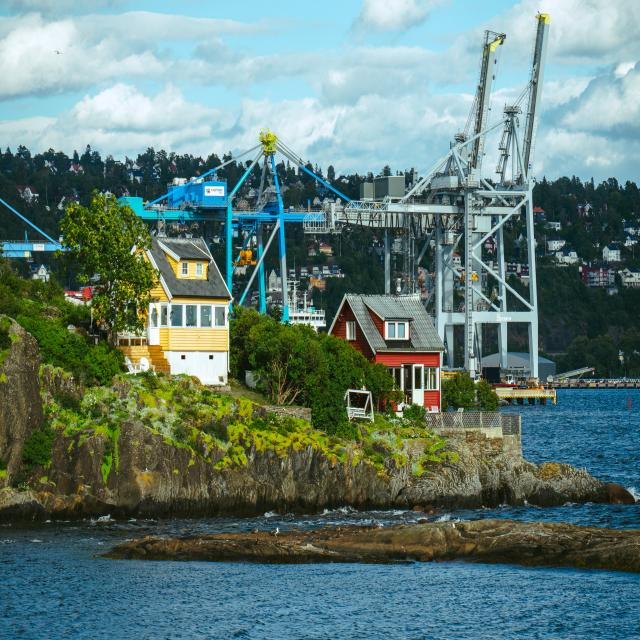building: (324, 290, 442, 416), (131, 235, 232, 382)
